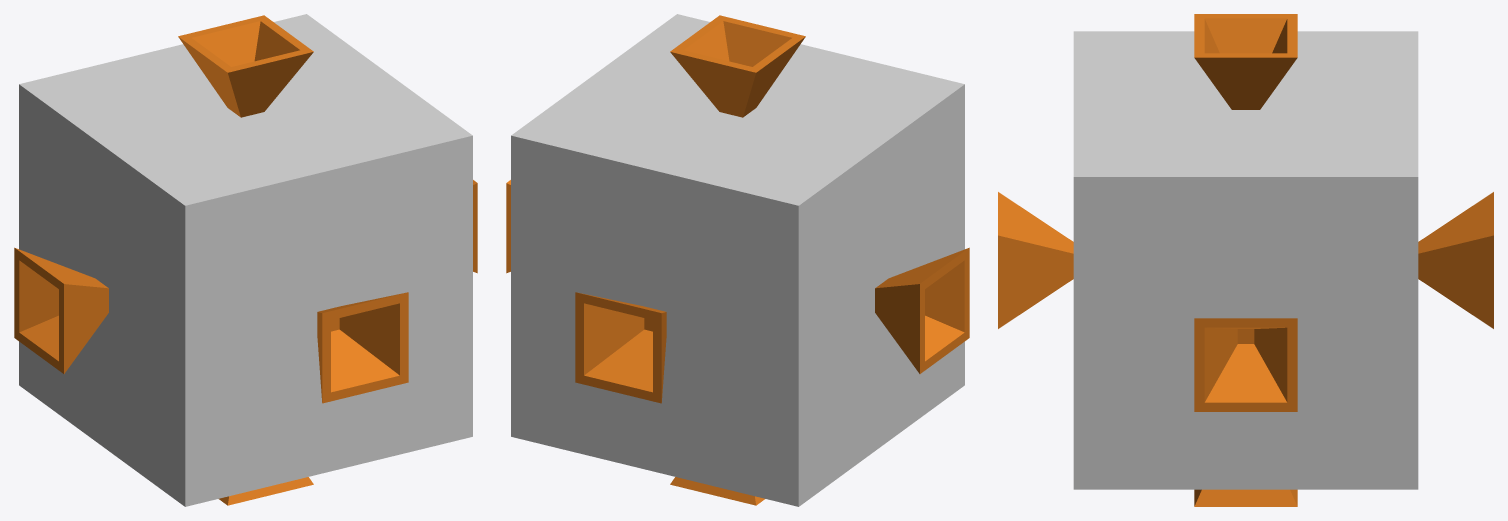
Rendered from boostercube.dae.
The picture shows the model from 3 angles, left to right: view 1: azimuth 30°, elevation 25°; view 2: azimuth 150°, elevation 25°; view 3: azimuth 270°, elevation 25°; orthographic projection. The views are drawn at different scales.
Parts seen in each view (by area): view 1: Cube, Cube_005, Cube_007, Cube_003, Cube_002; view 2: Cube, Cube_004, Cube_007, Cube_003, Cube_002; view 3: Cube, Cube_001, Cube_003, Cube_004, Cube_005, Cube_002.
Boxes of the visible parts, box(x1,y1,x2,y2) form: Cube: box(19, 14, 472, 506); Cube_005: box(317, 292, 408, 403); Cube_007: box(14, 247, 108, 373); Cube_003: box(178, 15, 313, 117); Cube_002: box(219, 477, 313, 505); Cube: box(511, 14, 964, 506); Cube_004: box(575, 292, 666, 403); Cube_007: box(875, 247, 969, 373); Cube_003: box(670, 15, 805, 117); Cube_002: box(670, 477, 764, 505); Cube: box(1073, 31, 1418, 489); Cube_001: box(1194, 318, 1297, 411); Cube_003: box(1194, 14, 1297, 109); Cube_004: box(1418, 192, 1493, 328); Cube_005: box(998, 192, 1073, 328); Cube_002: box(1194, 489, 1297, 506).
Bounding box in the file's own units: 2.87 × 2.87 × 2.87.
